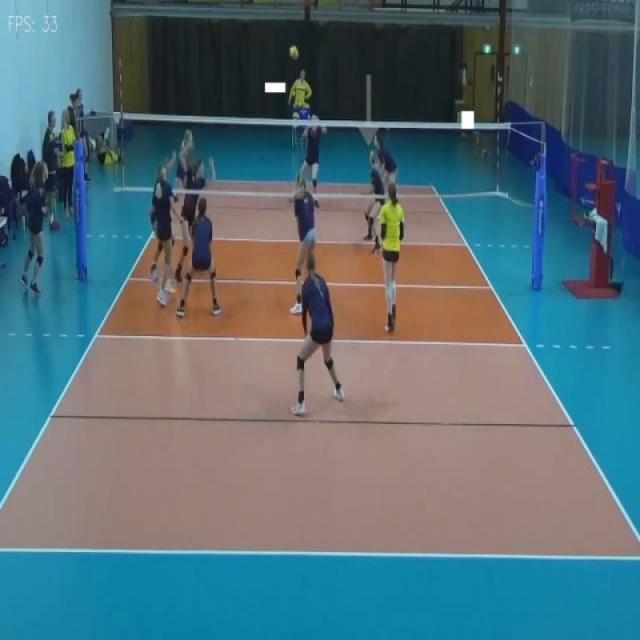volleyball: (288, 44, 300, 61), (292, 100, 310, 108), (292, 111, 300, 120), (481, 148, 487, 160), (460, 130, 467, 140), (476, 135, 481, 145), (292, 90, 296, 98)
